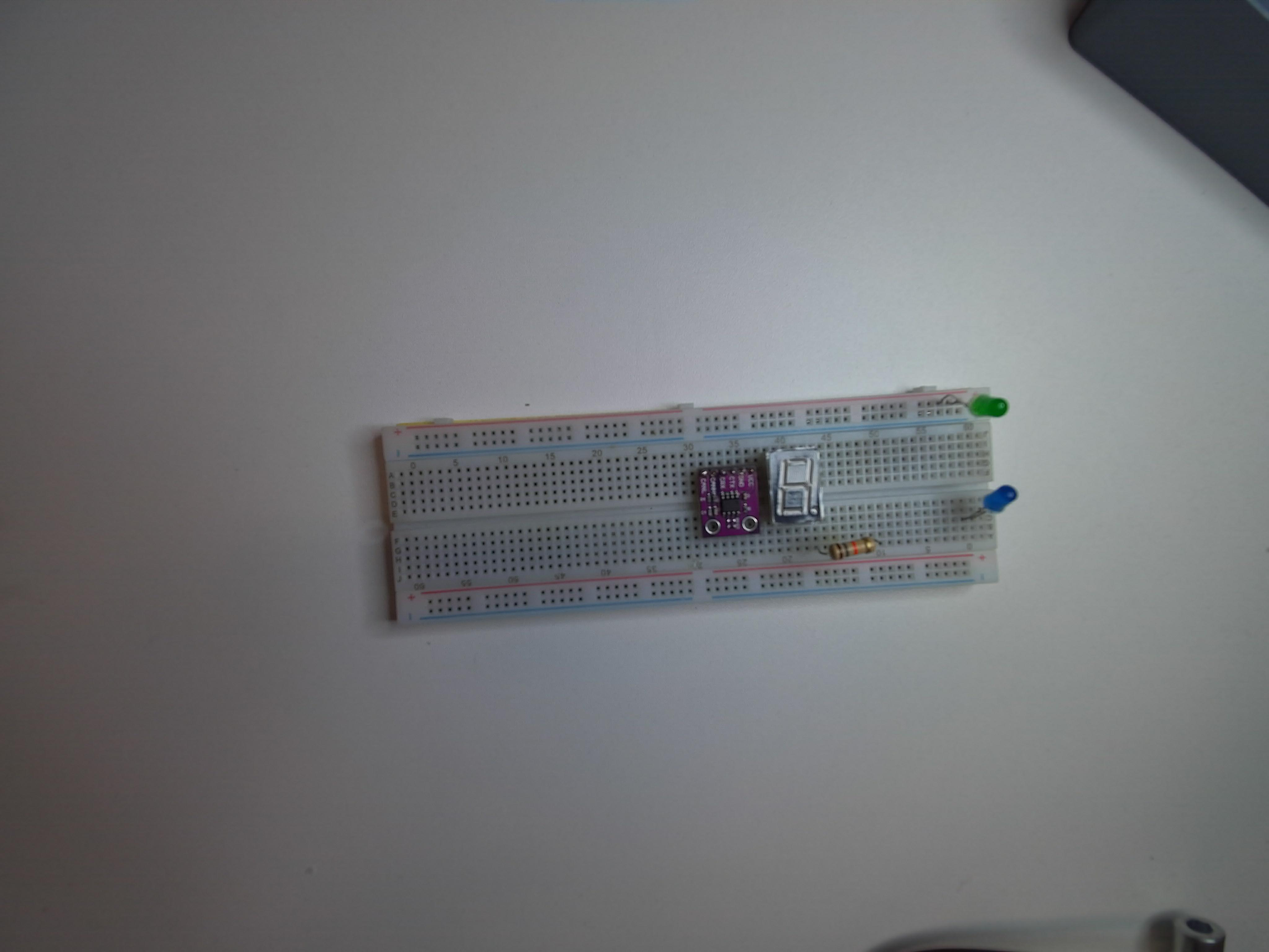base: (370, 387, 1013, 631)
blue-led: (979, 484, 1020, 518)
digit-board: (765, 439, 824, 527), (764, 441, 824, 525)
green-led: (965, 390, 1011, 425)
purple-board: (686, 450, 767, 543)
resistor-big: (824, 536, 875, 568)
